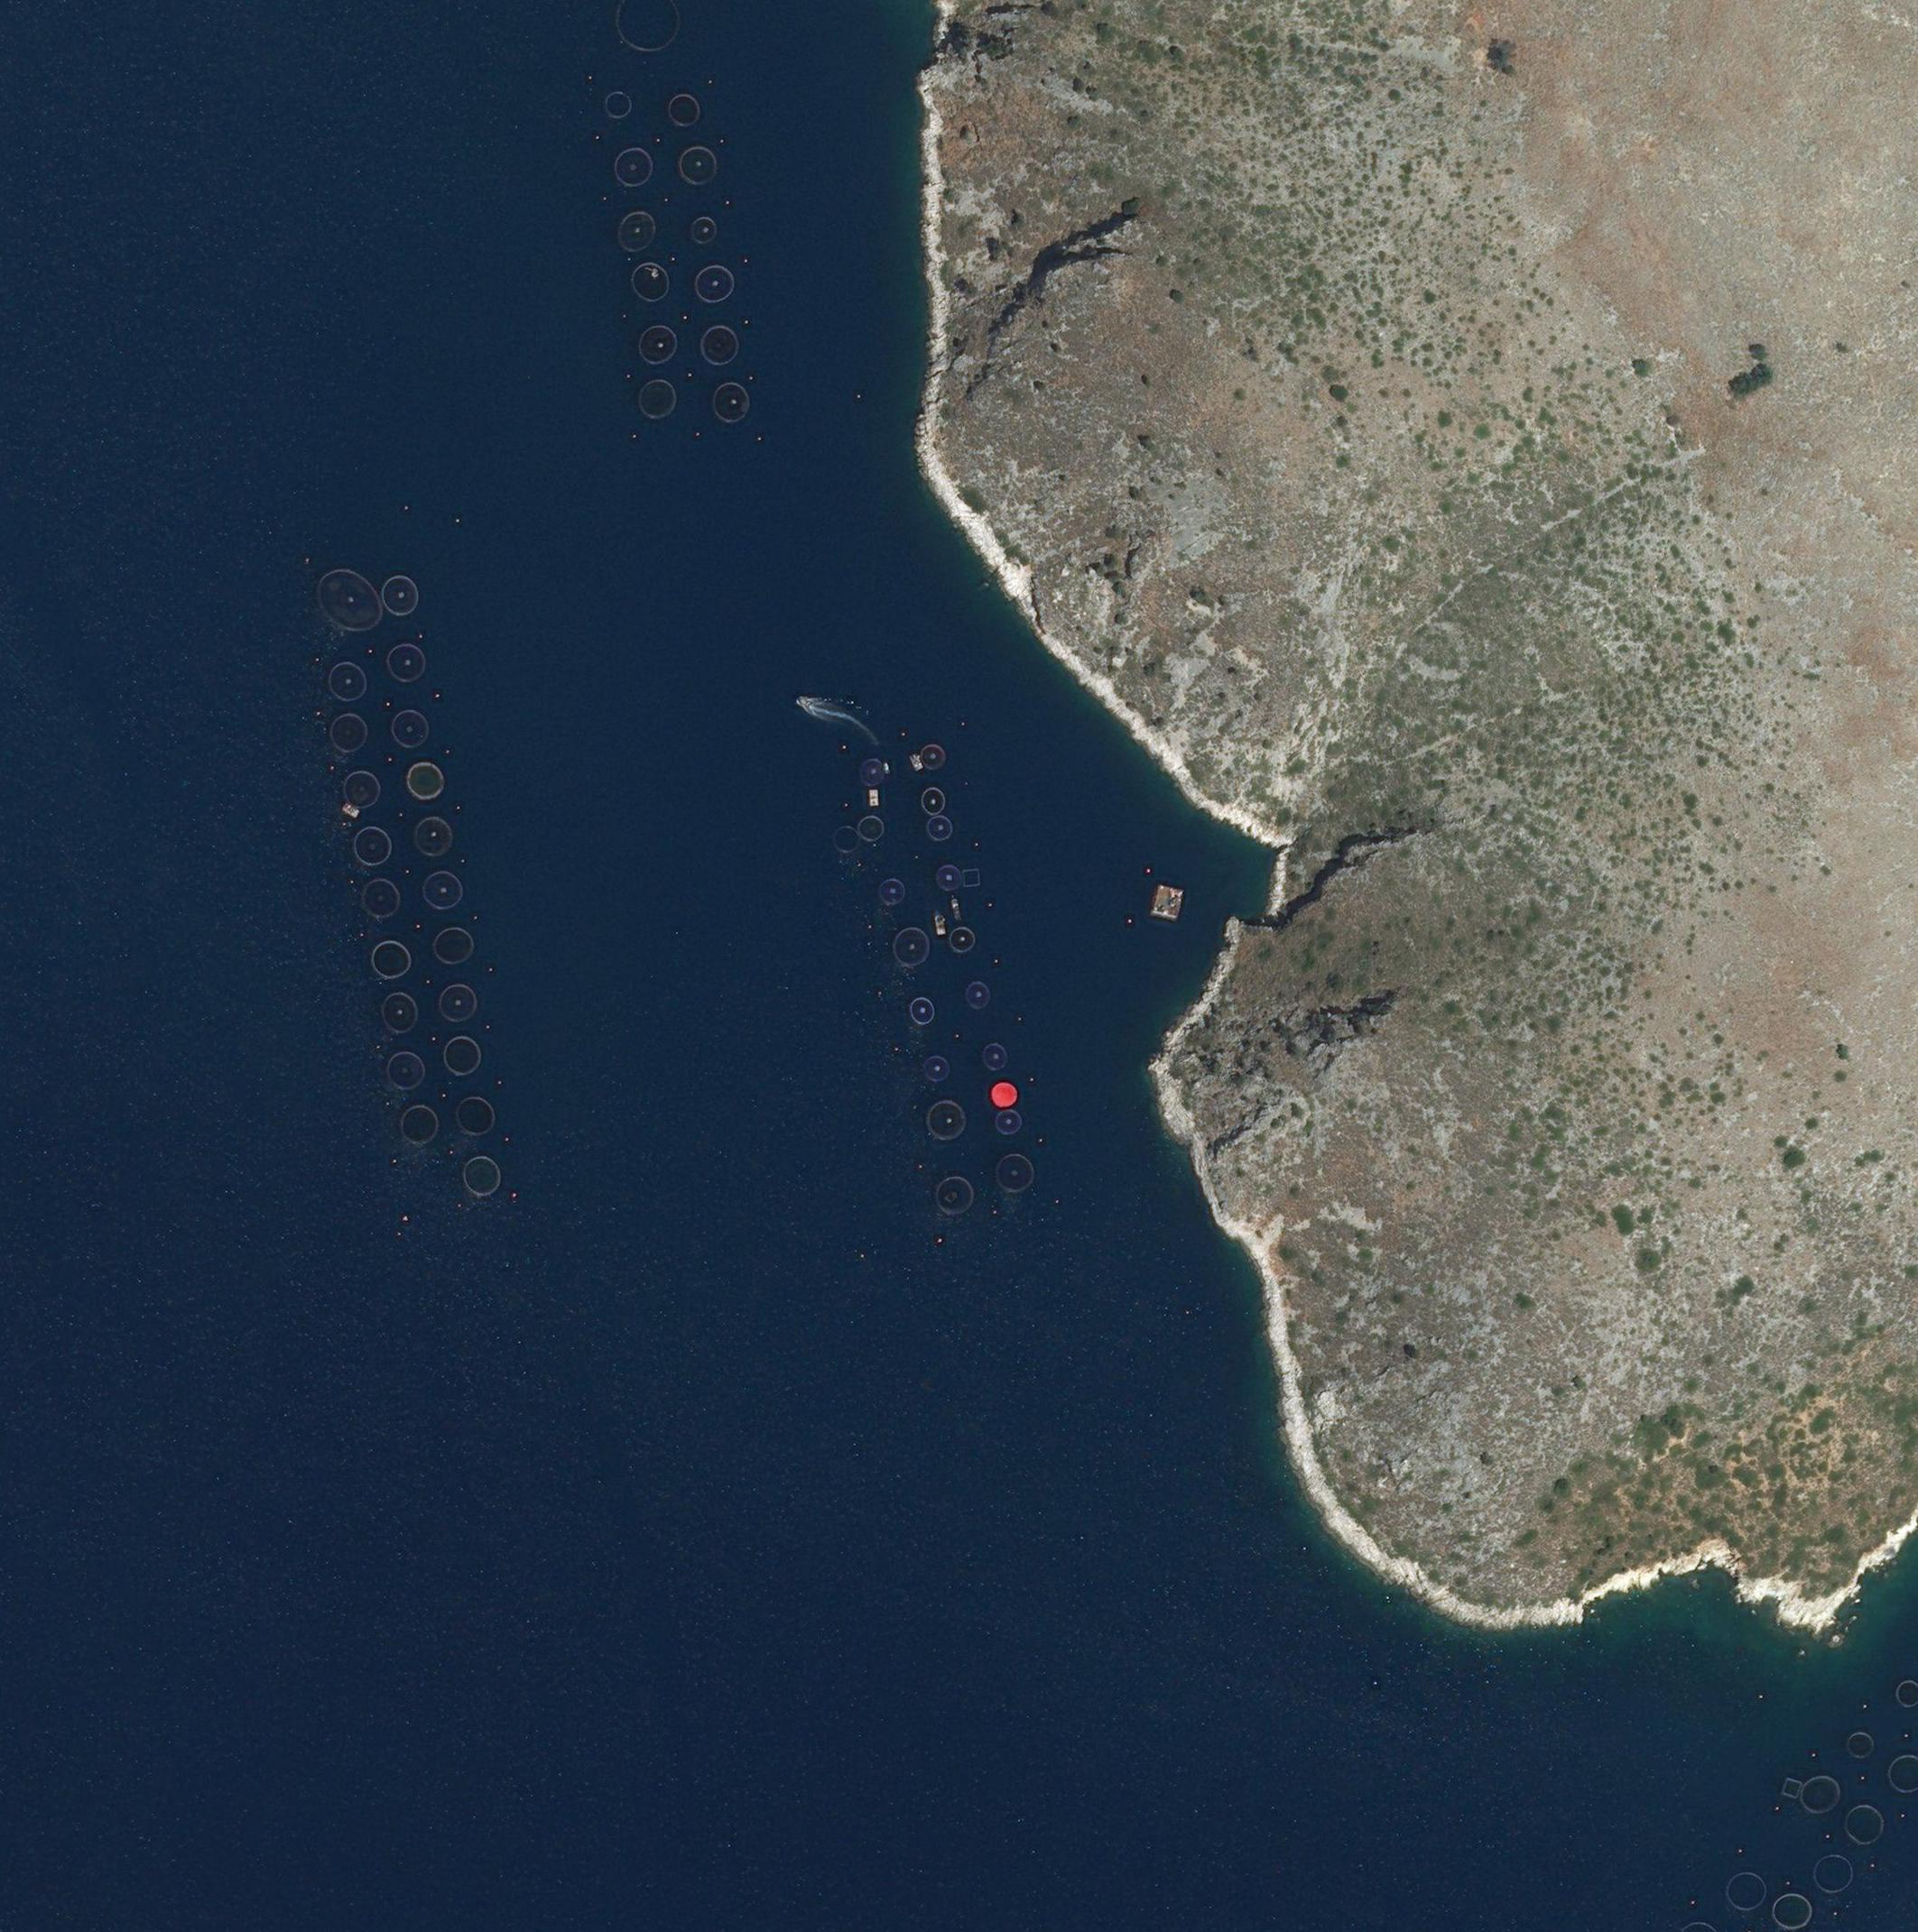c: (316, 567, 383, 634), (926, 1099, 968, 1142), (611, 146, 655, 186), (676, 146, 718, 186), (616, 209, 657, 251), (638, 323, 678, 365), (385, 643, 427, 683), (413, 815, 453, 857), (422, 869, 464, 910), (455, 1096, 497, 1136), (638, 379, 678, 420), (351, 825, 392, 866), (362, 876, 402, 917), (443, 1034, 483, 1075), (462, 1156, 502, 1196), (892, 927, 933, 968), (933, 1175, 973, 1215), (701, 325, 739, 367), (711, 381, 750, 423), (325, 662, 367, 701), (432, 927, 474, 966), (631, 262, 669, 302), (694, 263, 734, 302), (330, 713, 369, 753), (392, 708, 430, 748), (406, 761, 444, 801), (437, 984, 478, 1022), (400, 1105, 439, 1145), (996, 1152, 1035, 1193), (381, 991, 418, 1033), (342, 769, 381, 808), (372, 940, 411, 978), (388, 1052, 427, 1091), (381, 574, 418, 615), (667, 93, 701, 128), (855, 813, 887, 843), (876, 876, 906, 906), (934, 864, 964, 894), (963, 980, 992, 1010), (831, 825, 862, 854), (690, 216, 718, 246), (920, 787, 950, 815), (604, 91, 632, 119), (919, 743, 947, 771), (948, 926, 977, 954), (859, 757, 885, 787), (926, 815, 955, 841), (922, 1056, 952, 1082), (984, 1042, 1010, 1071), (989, 1082, 1019, 1108), (992, 1110, 1022, 1136), (910, 996, 934, 1026)
